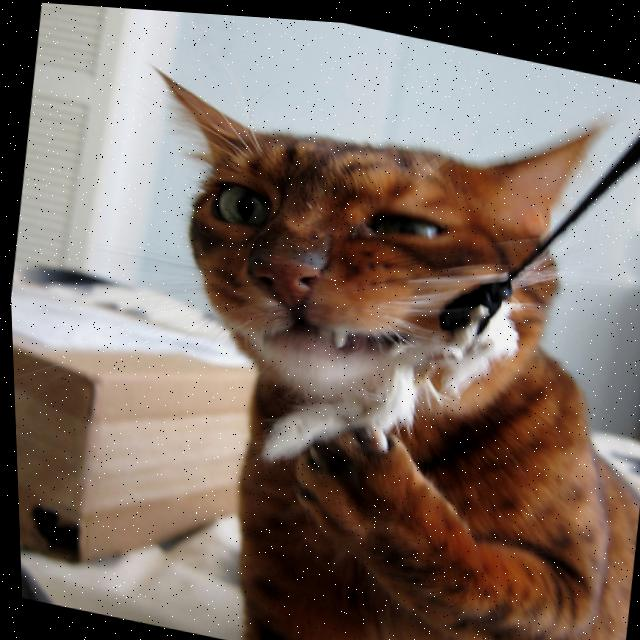Bengal: (61, 10, 640, 640)
